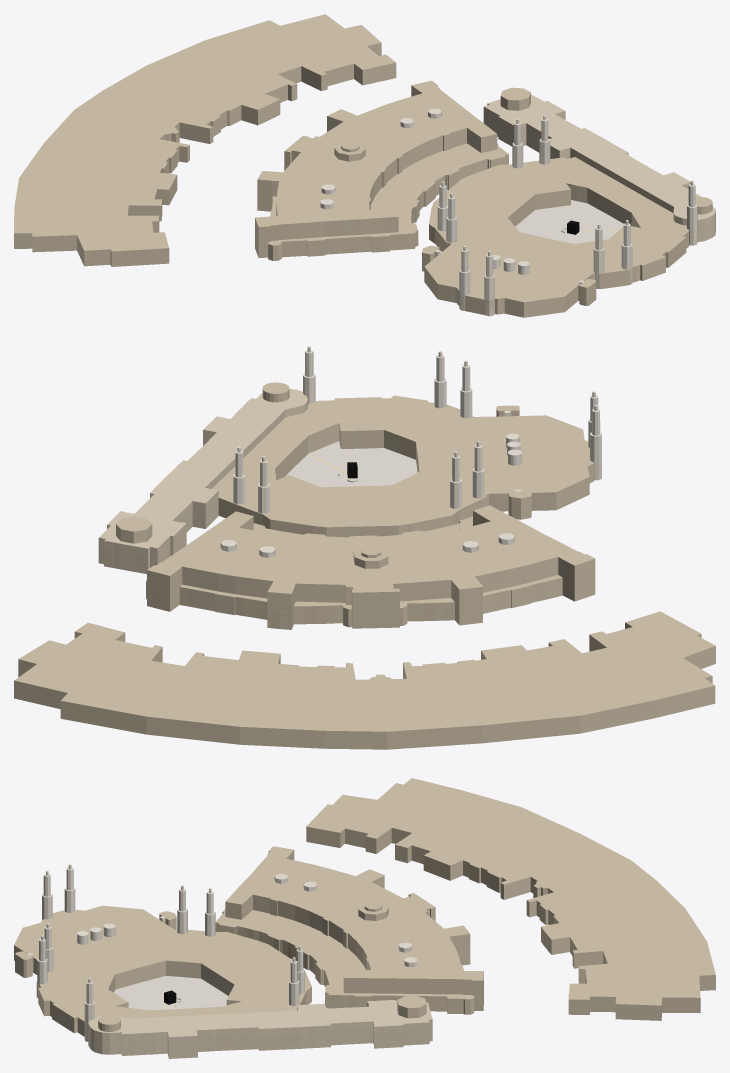
The model's file is haram.glb.
3 views of the same model, one above another, from view 1: azimuth 30°, elevation 25°; view 2: azimuth 150°, elevation 25°; view 3: azimuth 270°, elevation 25° (orthographic). The views are drawn at different scales.
Visible parts, largest first — view 1: mosque, masaa, minaret, marble; view 2: mosque, masaa, minaret, marble; view 3: mosque, masaa, minaret, marble.
Part boxes in pixels (x1,y1,x2,y2): mosque: (14, 14, 715, 317); masaa: (483, 94, 715, 241); minaret: (320, 108, 697, 316); marble: (515, 200, 623, 243); mosque: (14, 382, 715, 749); masaa: (98, 389, 307, 573); minaret: (220, 346, 601, 557); marble: (286, 441, 417, 487); mosque: (14, 778, 715, 1057); masaa: (88, 1000, 432, 1058); minaret: (27, 864, 417, 1041); marble: (114, 976, 228, 1010).
Size of the model in its own units: 785 by 84.6 by 876.
